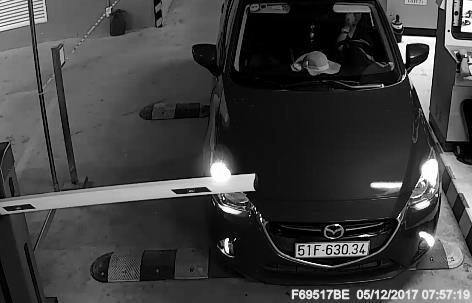License-plate: (287, 229, 374, 265)
